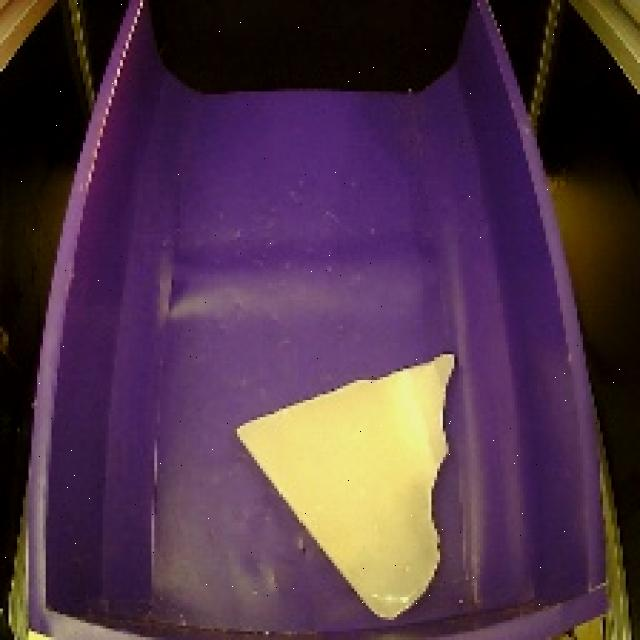china: (229, 335, 468, 627)
